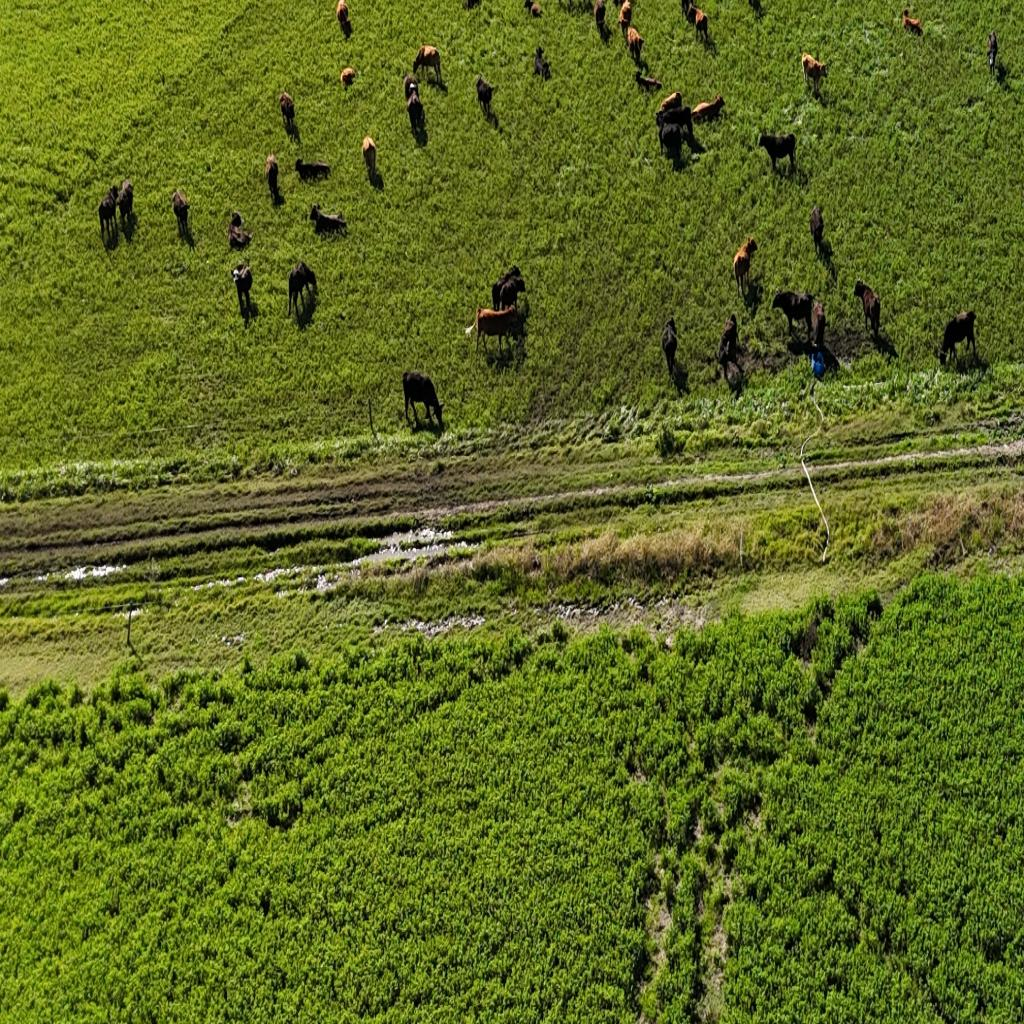cow: (768, 282, 818, 336), (470, 302, 517, 356), (402, 369, 444, 428), (940, 308, 976, 364), (853, 276, 882, 342), (287, 260, 317, 318), (758, 131, 796, 176), (491, 267, 525, 313), (732, 234, 756, 297), (412, 42, 444, 85), (309, 203, 346, 237), (867, 324, 900, 362), (657, 118, 684, 164), (801, 52, 828, 97), (230, 260, 253, 312), (717, 313, 739, 367), (98, 184, 119, 239), (661, 319, 679, 381), (656, 104, 692, 134), (692, 92, 724, 124), (228, 212, 253, 252), (812, 234, 834, 278), (720, 354, 744, 394), (294, 156, 330, 182), (117, 178, 135, 228), (172, 186, 190, 235), (406, 84, 424, 132), (810, 300, 826, 352), (478, 95, 500, 131), (476, 73, 494, 115), (810, 204, 824, 257), (364, 158, 384, 192), (266, 152, 280, 200), (626, 26, 644, 62), (362, 135, 377, 177), (656, 91, 682, 115), (532, 46, 550, 79), (279, 90, 295, 126), (901, 11, 923, 36), (490, 280, 506, 313), (990, 57, 1007, 88), (694, 9, 709, 44), (636, 72, 662, 92), (403, 72, 419, 103), (619, 0, 632, 38), (987, 30, 998, 74), (500, 264, 522, 282), (594, 0, 606, 32), (337, 0, 350, 27), (681, 0, 694, 22), (341, 66, 355, 86), (229, 211, 243, 229), (528, 0, 542, 17), (464, 0, 481, 11)
